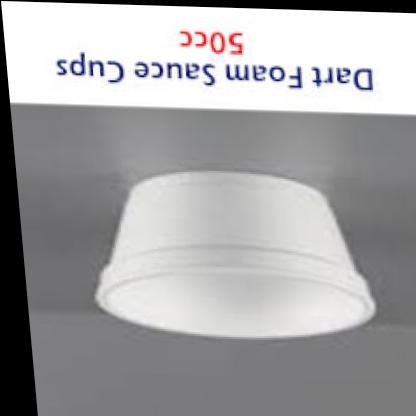trash: (96, 171, 375, 337)
